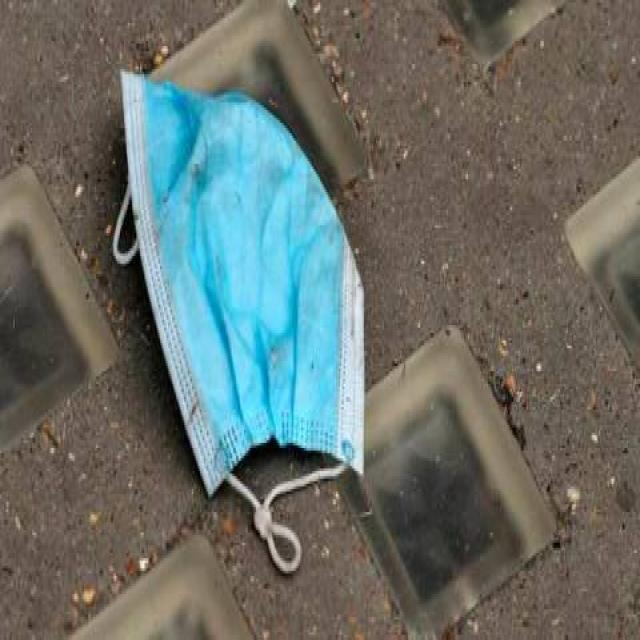face mask: (116, 51, 371, 566)
